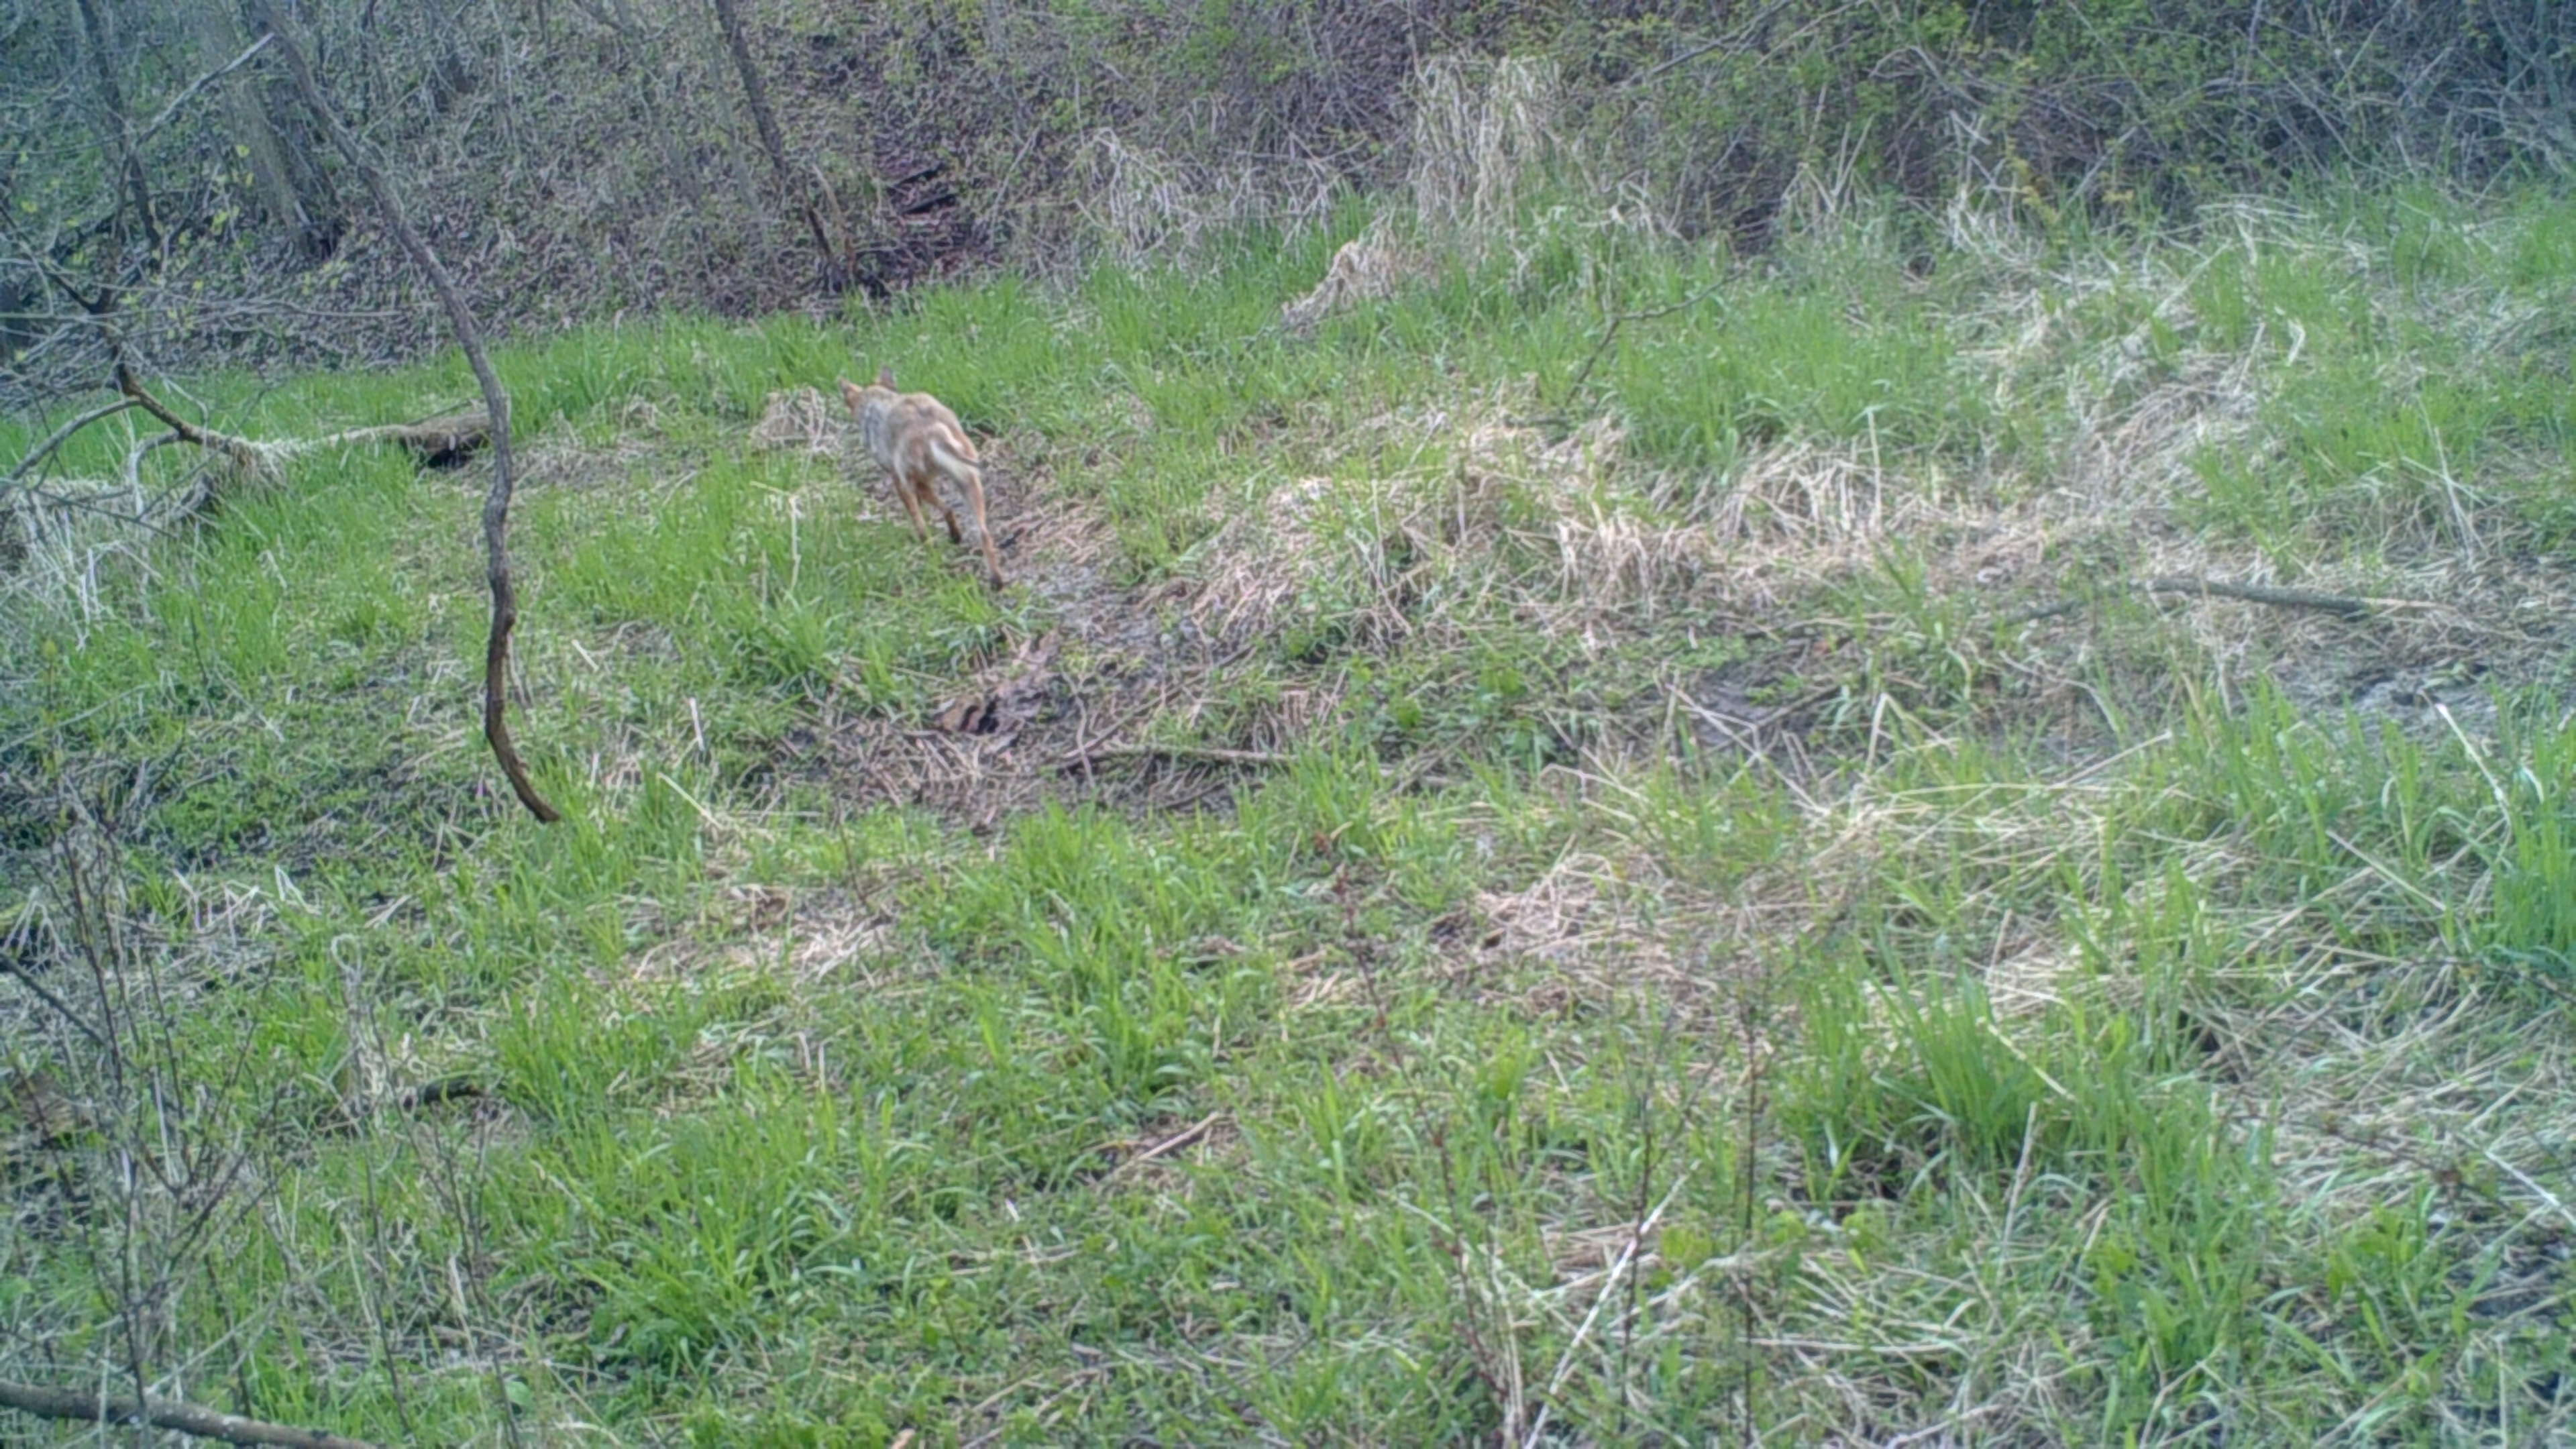Coyote: (835, 361, 1010, 586)
